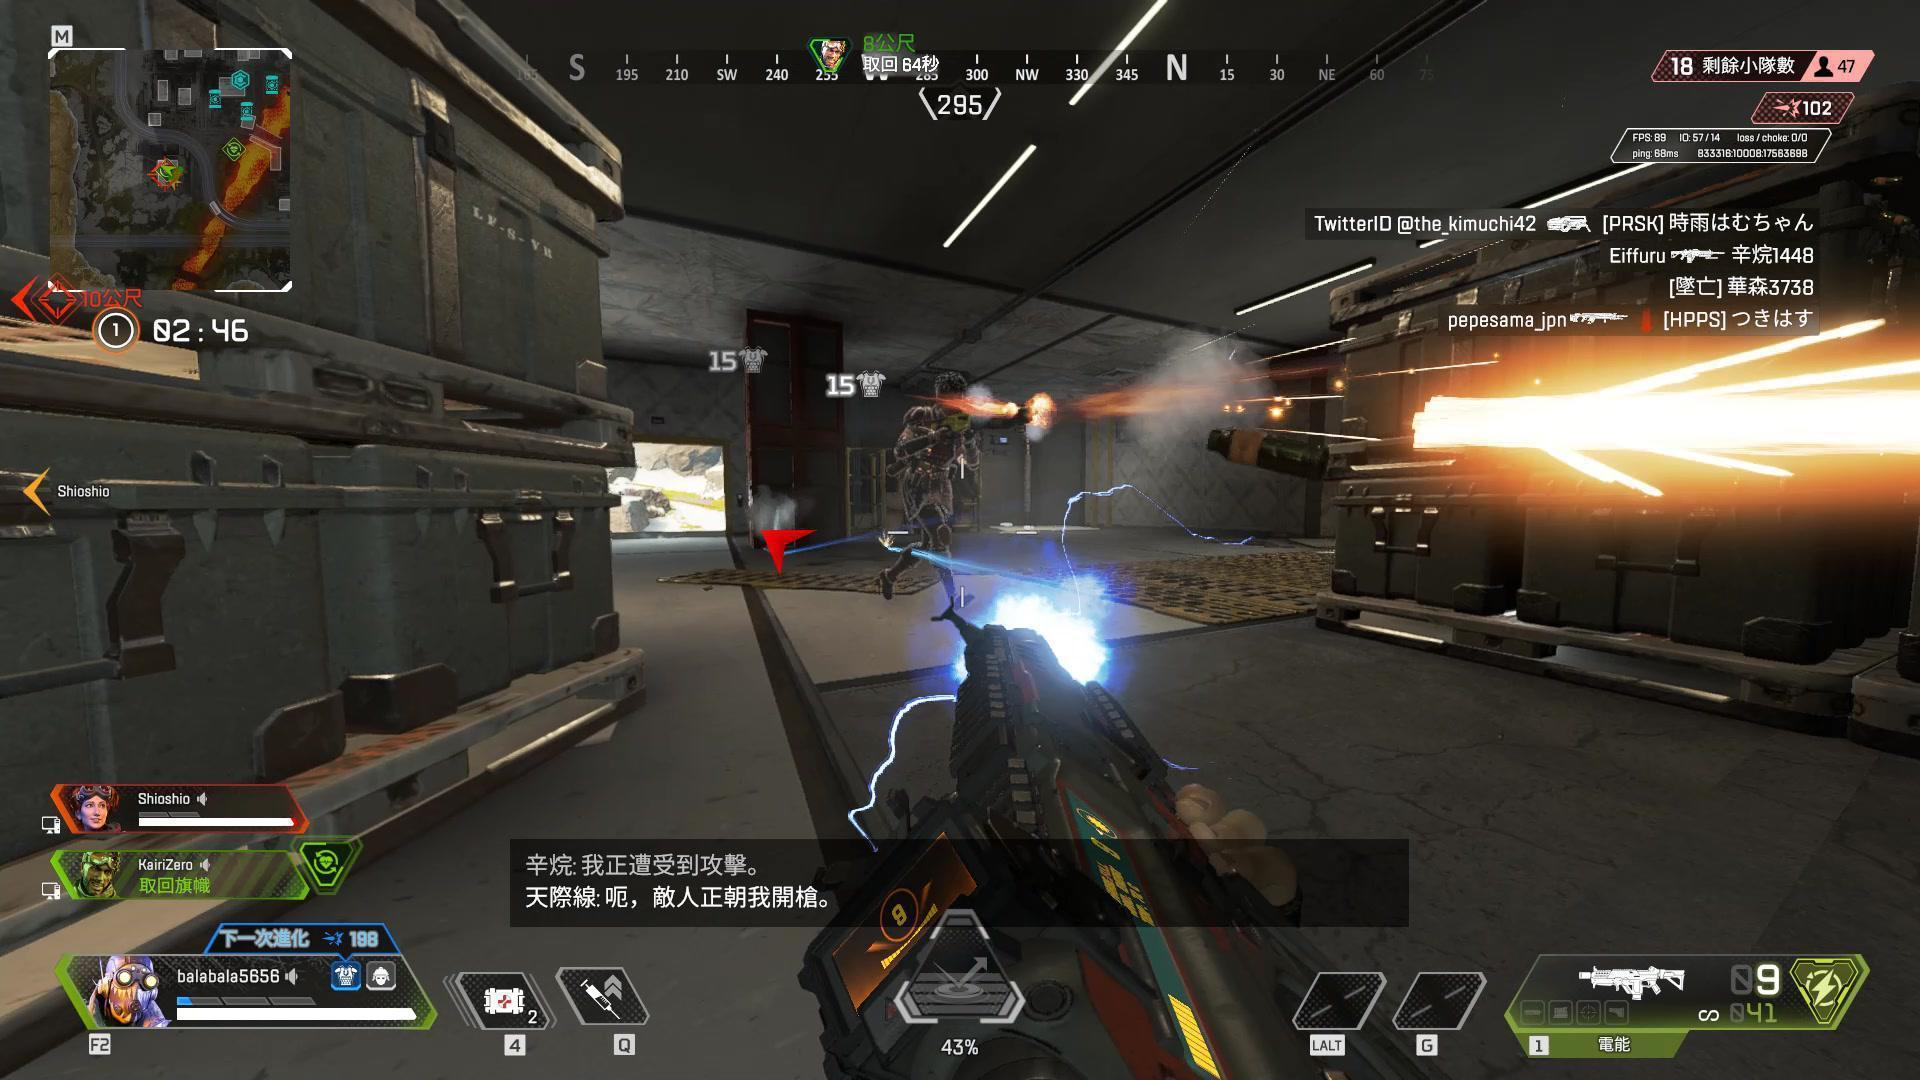avatar: (876, 371, 974, 604)
